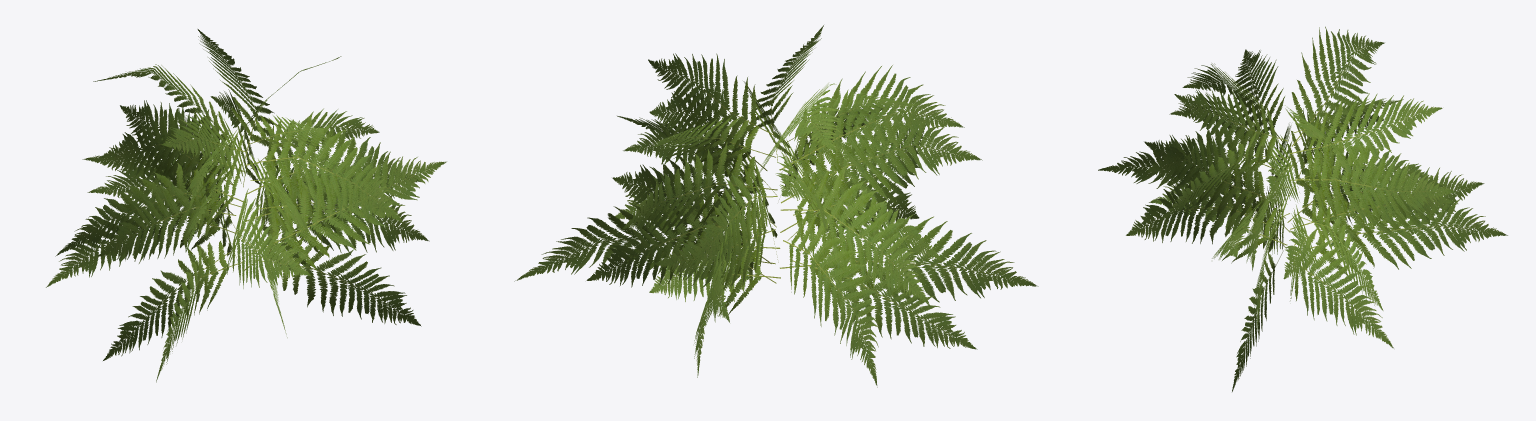
Rendered from fern leaves.fbx.
3 views of the same model, side by side, from view 1: azimuth 30°, elevation 25°; view 2: azimuth 150°, elevation 25°; view 3: azimuth 270°, elevation 25° (orthographic). The views are drawn at different scales.
Parts seen in each view (by area): view 1: fern02_1; view 2: fern02_1; view 3: fern02_1.
Boxes of the visible parts, x1=… form: fern02_1: x1=46, y1=29, x2=446, y2=382; fern02_1: x1=514, y1=25, x2=1038, y2=387; fern02_1: x1=1098, y1=26, x2=1507, y2=391.
Size of the model in its own units: 0.5488 by 0.4274 by 0.5705.
Materials: 1 (1 with a texture image).
